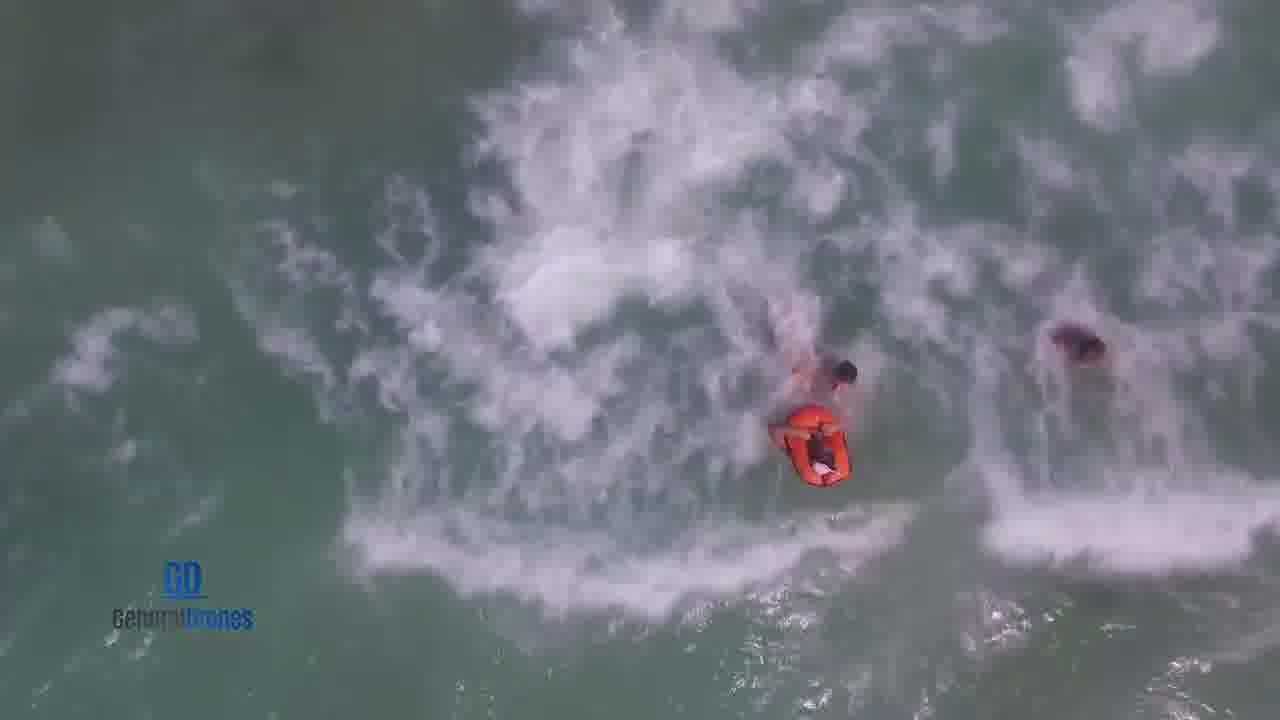swimmer: (1041, 320, 1114, 368), (795, 433, 848, 468), (824, 341, 862, 384)
